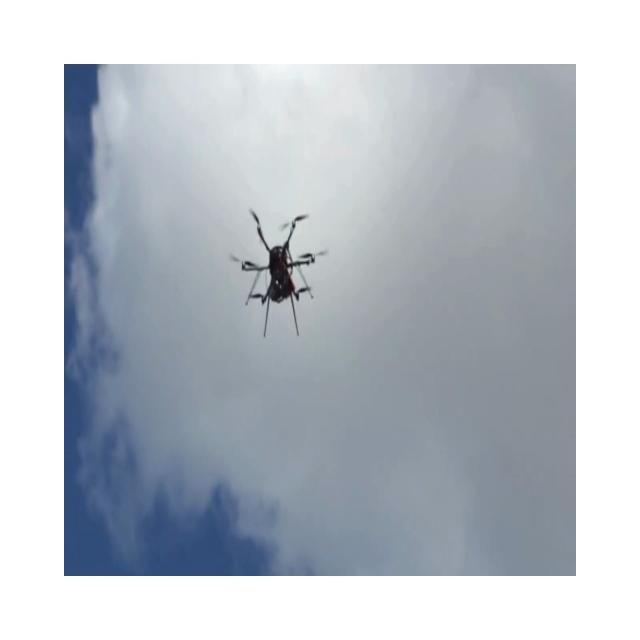drone: (229, 207, 328, 338)
